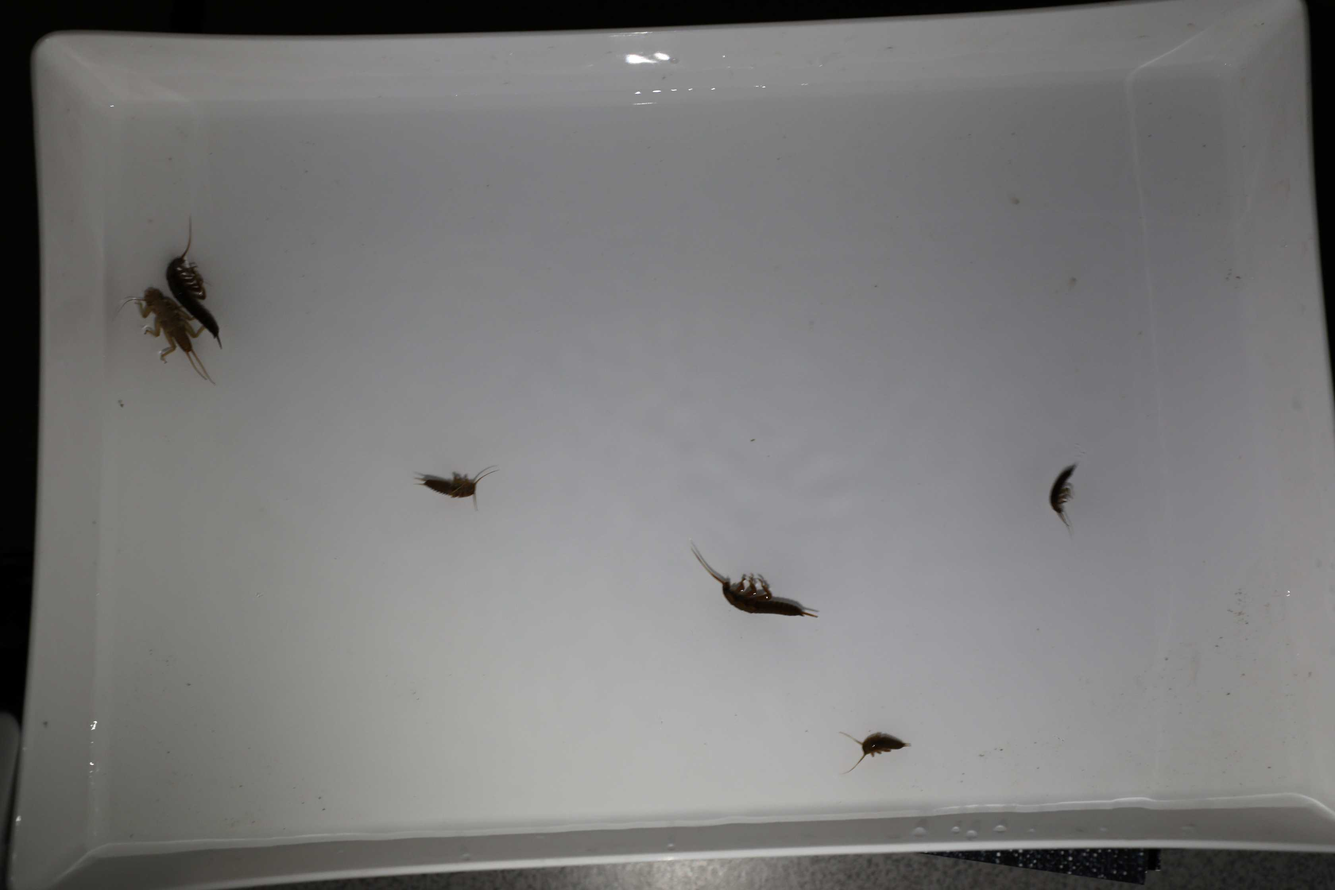Stonefly: (687, 538, 817, 624), (168, 216, 225, 350), (135, 289, 211, 388), (416, 464, 495, 515), (837, 727, 913, 769), (1047, 462, 1082, 533)
